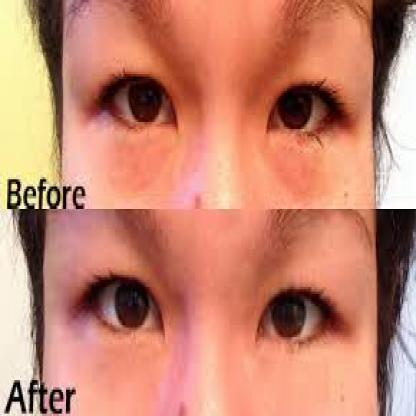darkspot: (280, 31, 308, 72), (90, 14, 119, 50), (241, 67, 260, 110), (106, 83, 132, 107), (148, 218, 165, 254), (130, 141, 147, 177), (96, 242, 116, 266), (208, 70, 218, 94), (353, 227, 359, 237), (326, 292, 332, 301)
